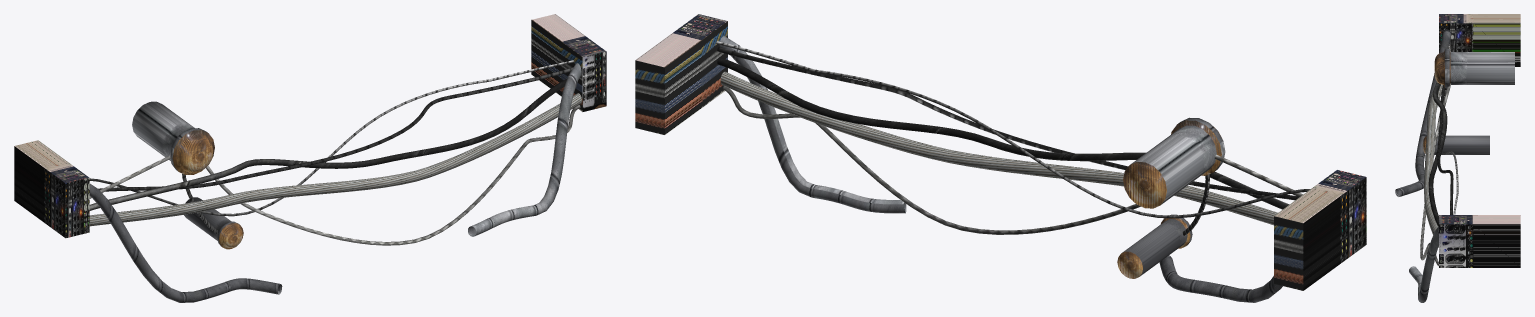
The model's file is kable3.fbx.
3 renders of one model, left to right at view 1: azimuth 30°, elevation 25°; view 2: azimuth 150°, elevation 25°; view 3: azimuth 270°, elevation 25°, orthographic. The views are drawn at different scales.
Parts seen in each view (by area): view 1: Cube.007; view 2: Cube.007; view 3: Cube.007.
Boxes of the visible parts, bbox=[...] form: Cube.007: bbox=[14, 14, 606, 302]; Cube.007: bbox=[635, 14, 1366, 302]; Cube.007: bbox=[1395, 14, 1520, 302].
Bounding box in the file's own units: 1018 × 280 × 257.
Materials: 1 (1 with a texture image).
